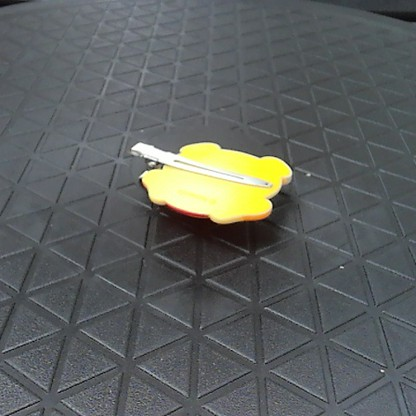dogclip: (125, 135, 293, 227)
